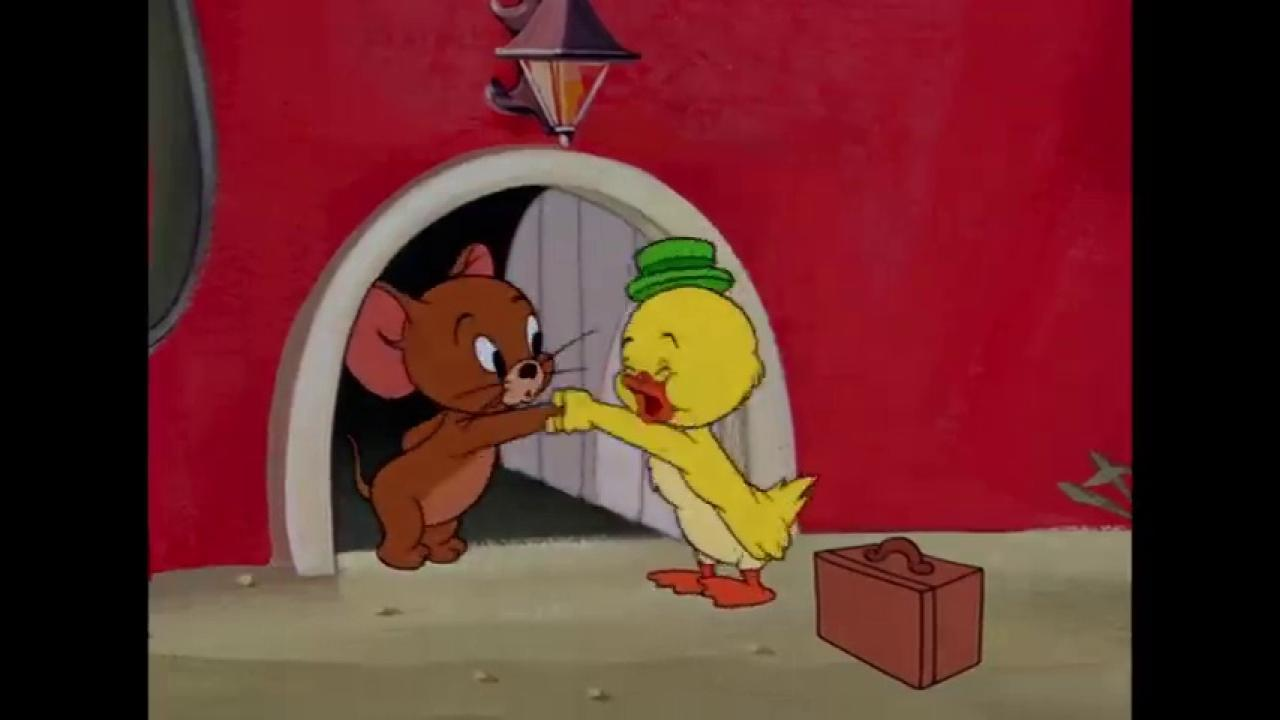Jerry: (344, 239, 574, 573)
